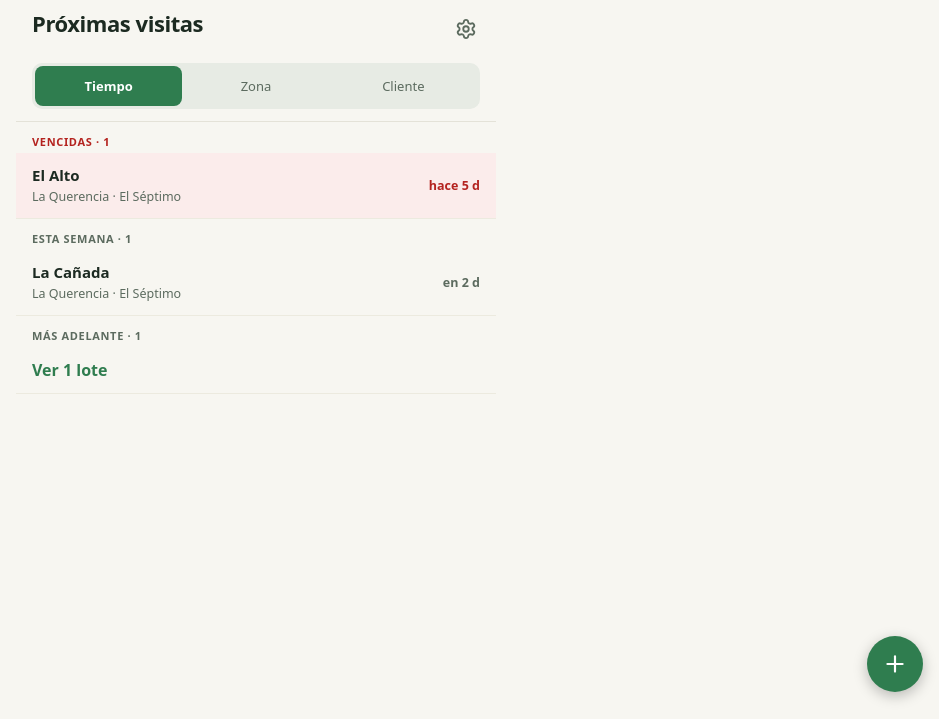
AgendaScreen › reagrupa por zona con el toggle
Expected: the heading "Vencidas · 1" is shown, [32, 134, 110, 149]
Click the radio button labelled "Zona". click: [256, 86]
box: [241, 77, 271, 95]
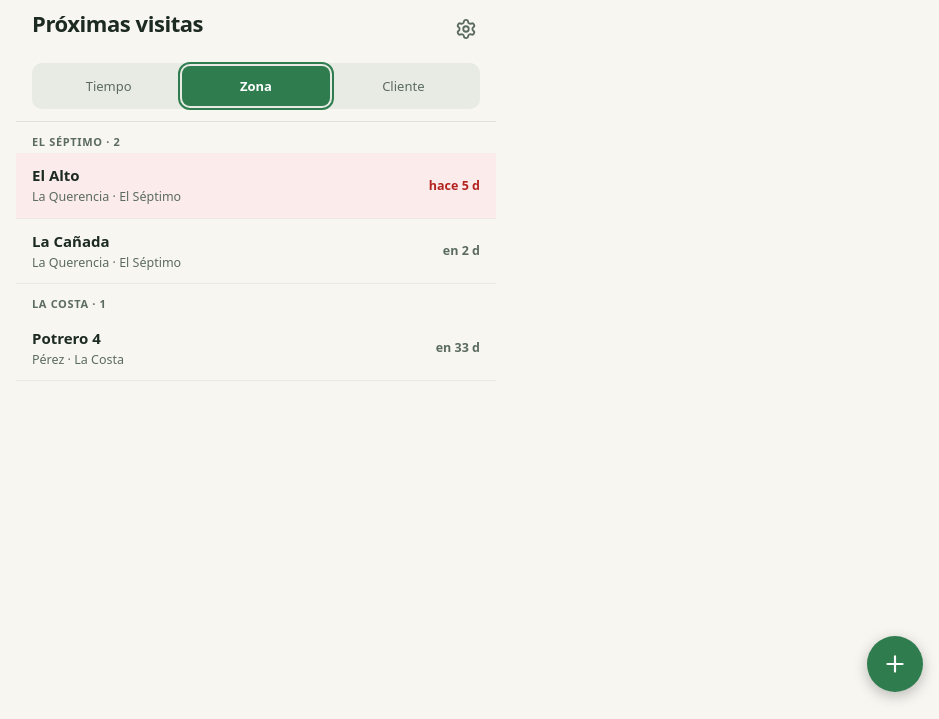
Expected: the heading "El Séptimo · 2" is shown, [32, 134, 120, 149]
Expected: the heading "La Costa · 1" is shown, [32, 296, 106, 311]
Expected: the link "Potrero 4 Pérez · La Costa en 33 d" is shown, [16, 316, 496, 381]
